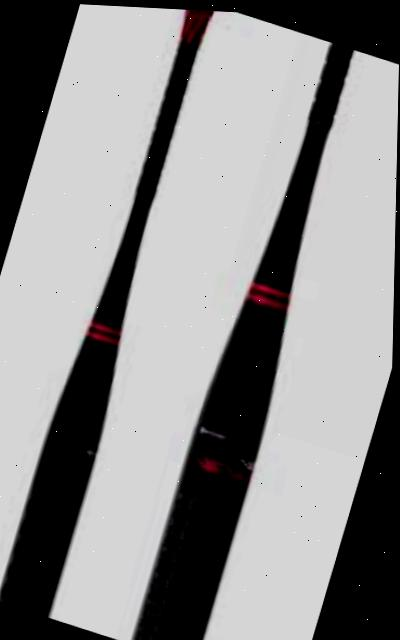baseball bat: (130, 23, 374, 640), (0, 0, 227, 623)
